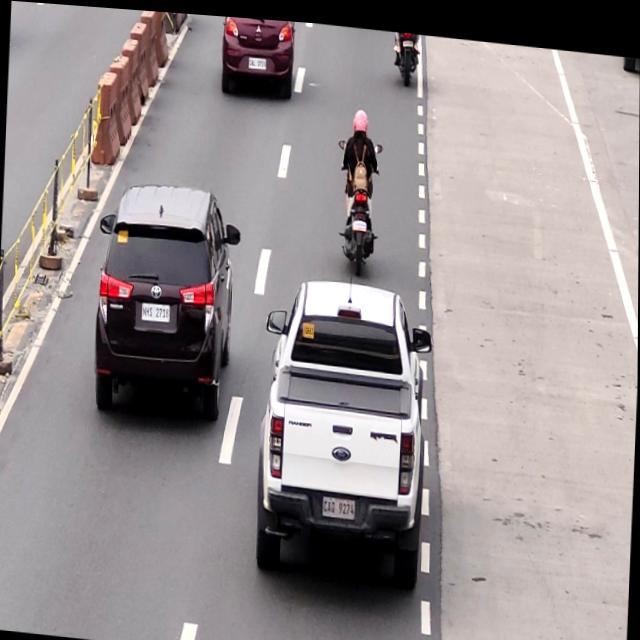Car: (267, 273, 431, 588), (94, 175, 235, 424), (218, 13, 294, 91)
License-Plate: (323, 488, 357, 520), (140, 298, 174, 323), (248, 50, 266, 66)
Motorcycle: (338, 102, 383, 274), (393, 26, 419, 74)
